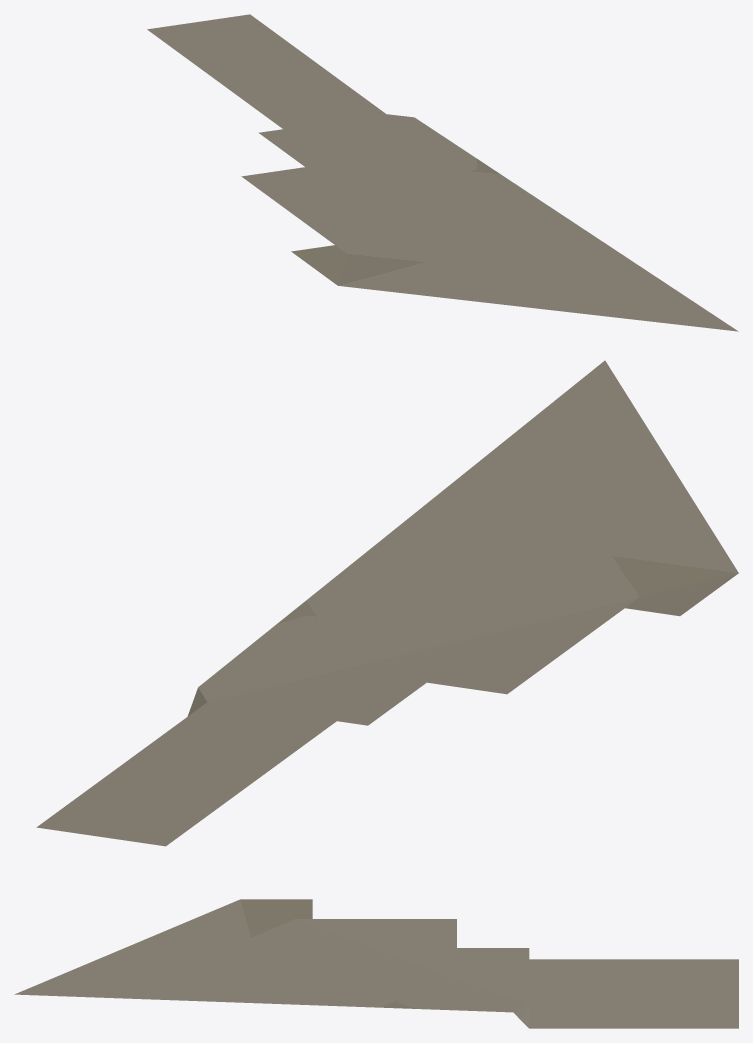
3 renders of one model, top to bottom at view 1: azimuth 30°, elevation 25°; view 2: azimuth 150°, elevation 25°; view 3: azimuth 270°, elevation 25°, orthographic. The views are drawn at different scales.
Size of the model in its own units: 0.2236 by 0.0373 by 0.7187.
Materials: 1 (1 with a texture image).
